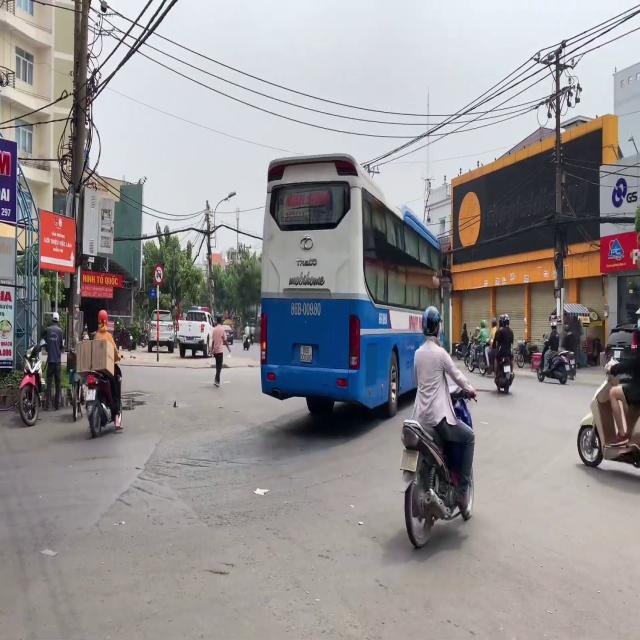bien_trang: (300, 345, 312, 364)
